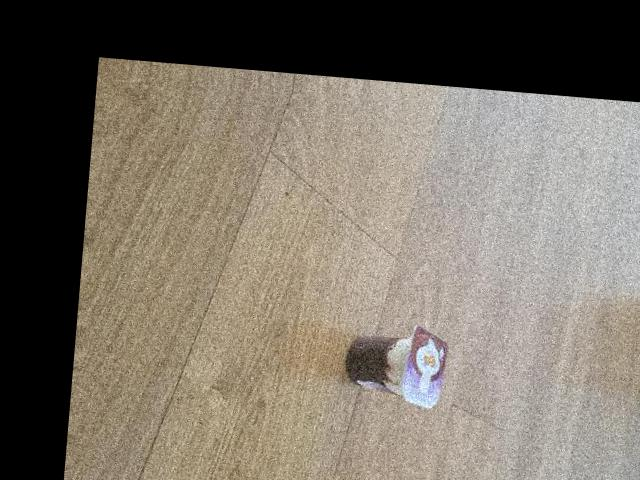milky: (333, 318, 449, 408)
